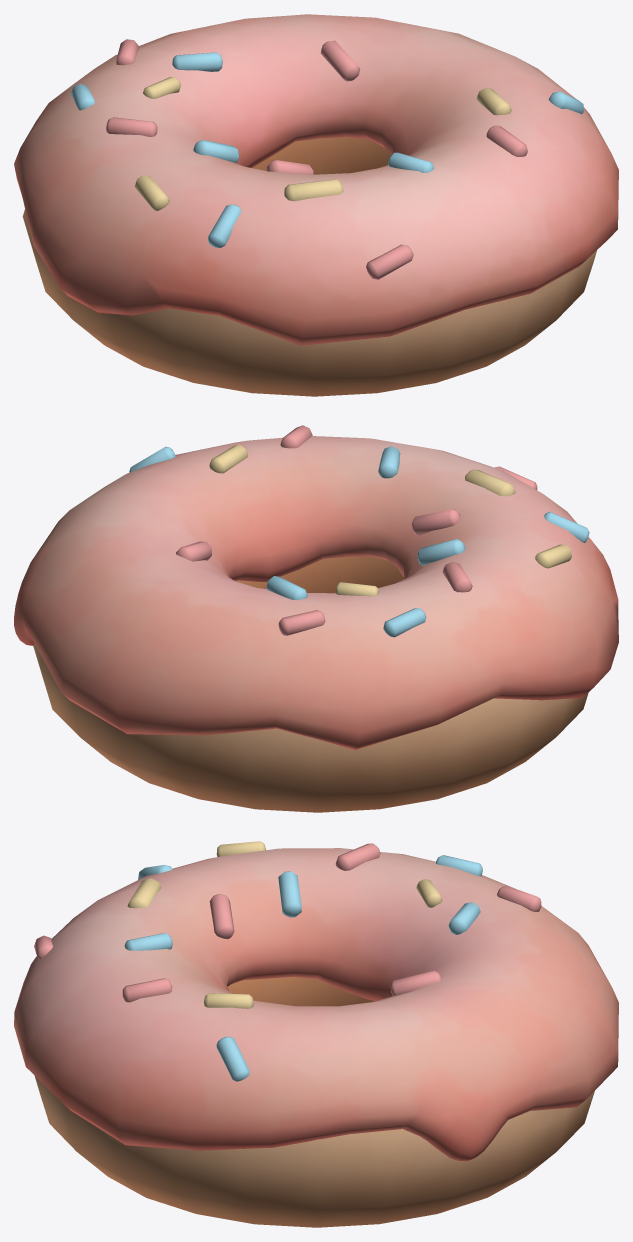
File: donut.fbx
The picture shows the model from 3 angles, top to bottom: view 1: azimuth 30°, elevation 25°; view 2: azimuth 150°, elevation 25°; view 3: azimuth 270°, elevation 25°; orthographic projection.
Visible parts, largest first — view 1: Donut_LP_BreakFast_00_0; view 2: Donut_LP_BreakFast_00_0; view 3: Donut_LP_BreakFast_00_0.
Part boxes in pixels (left/top/right/bottom): Donut_LP_BreakFast_00_0: left=14, top=14, right=618, bottom=396; Donut_LP_BreakFast_00_0: left=14, top=425, right=618, bottom=812; Donut_LP_BreakFast_00_0: left=14, top=841, right=618, bottom=1227.
Size of the model in its own units: 37.61 by 14.41 by 37.73.
